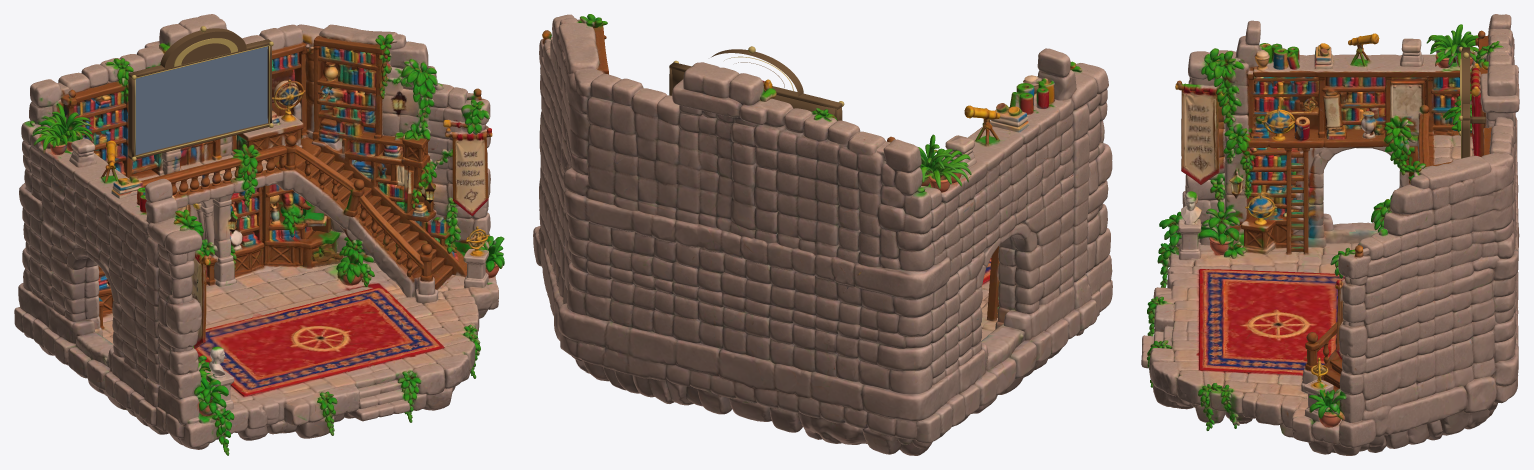
File: kfb-meshy-utopia-library.screen-a.v1.glb
3 renders of one model, left to right at view 1: azimuth 30°, elevation 25°; view 2: azimuth 150°, elevation 25°; view 3: azimuth 270°, elevation 25°, orthographic. The views are drawn at different scales.
Visible parts, largest first — view 1: library_utopia, kfb_screen_slot, kfb_screen_frame; view 2: library_utopia, kfb_screen_frame; view 3: library_utopia, kfb_screen_frame.
Boxes of the visible parts, x1=… form: library_utopia: x1=14, y1=14, x2=504, y2=455; kfb_screen_slot: x1=135, y1=46, x2=267, y2=154; kfb_screen_frame: x1=128, y1=26, x2=273, y2=161; library_utopia: x1=533, y1=14, x2=1112, y2=455; kfb_screen_frame: x1=669, y1=46, x2=844, y2=120; library_utopia: x1=1141, y1=14, x2=1519, y2=455; kfb_screen_frame: x1=1458, y1=46, x2=1485, y2=158.
Bounding box in the file's own units: 1.9 × 1.34 × 1.48.
Materials: 4 (1 with a texture image).
